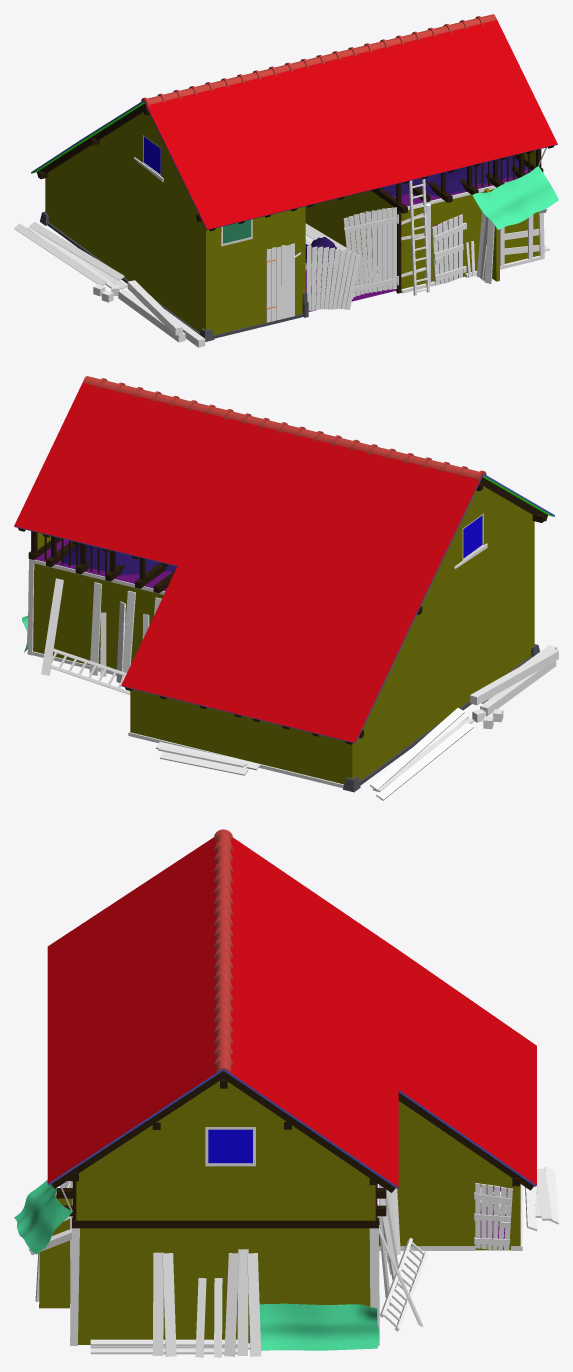
The model's file is croft_barn_house_final.fbx.
3 views of the same model, one above another, from view 1: azimuth 30°, elevation 25°; view 2: azimuth 150°, elevation 25°; view 3: azimuth 270°, elevation 25° (orthographic). The views are drawn at different scales.
Visible parts, largest first — view 1: croft_barn_house; view 2: croft_barn_house; view 3: croft_barn_house.
Part boxes in pixels (x1=…): croft_barn_house: x1=14, y1=14, x2=558, y2=347; croft_barn_house: x1=14, y1=376, x2=558, y2=800; croft_barn_house: x1=14, y1=829, x2=558, y2=1357.
Bounding box in the file's own units: 1913 × 960 × 1662.
